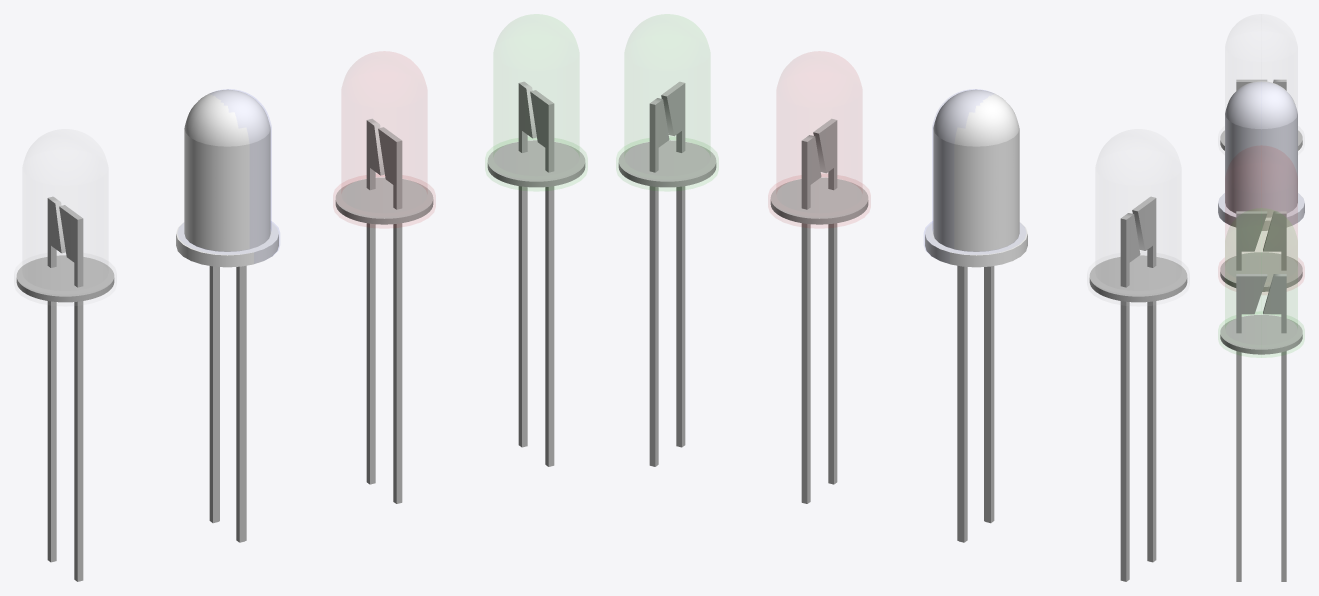
Rendered from LED.obj.
3 views of the same model, side by side, from view 1: azimuth 30°, elevation 25°; view 2: azimuth 150°, elevation 25°; view 3: azimuth 270°, elevation 25° (orthographic). The views are drawn at different scales.
Parts seen in each view (by area): view 1: led, Null.3, Null.1, Null.2, 1, Null.5; view 2: led, Null.3, Null.1, Null.2, 1, Null.5; view 3: led, Null.3, Null.2, Null.1.
Part boxes in pixels (bbox=[...]): led: bbox=[176, 89, 278, 267]; Null.3: bbox=[487, 81, 585, 466]; Null.1: bbox=[16, 196, 114, 581]; Null.2: bbox=[335, 118, 433, 503]; 1: bbox=[209, 266, 245, 542]; Null.5: bbox=[214, 221, 271, 540]; led: bbox=[925, 89, 1027, 267]; Null.3: bbox=[618, 81, 716, 466]; Null.1: bbox=[1089, 196, 1187, 581]; Null.2: bbox=[770, 118, 868, 503]; 1: bbox=[958, 266, 994, 542]; Null.5: bbox=[932, 221, 989, 540]; led: bbox=[1218, 81, 1304, 230]; Null.3: bbox=[1220, 208, 1302, 581]; Null.2: bbox=[1220, 146, 1302, 291]; Null.1: bbox=[1220, 14, 1302, 150].
Size of the model in its own units: 971 by 724 by 155.
